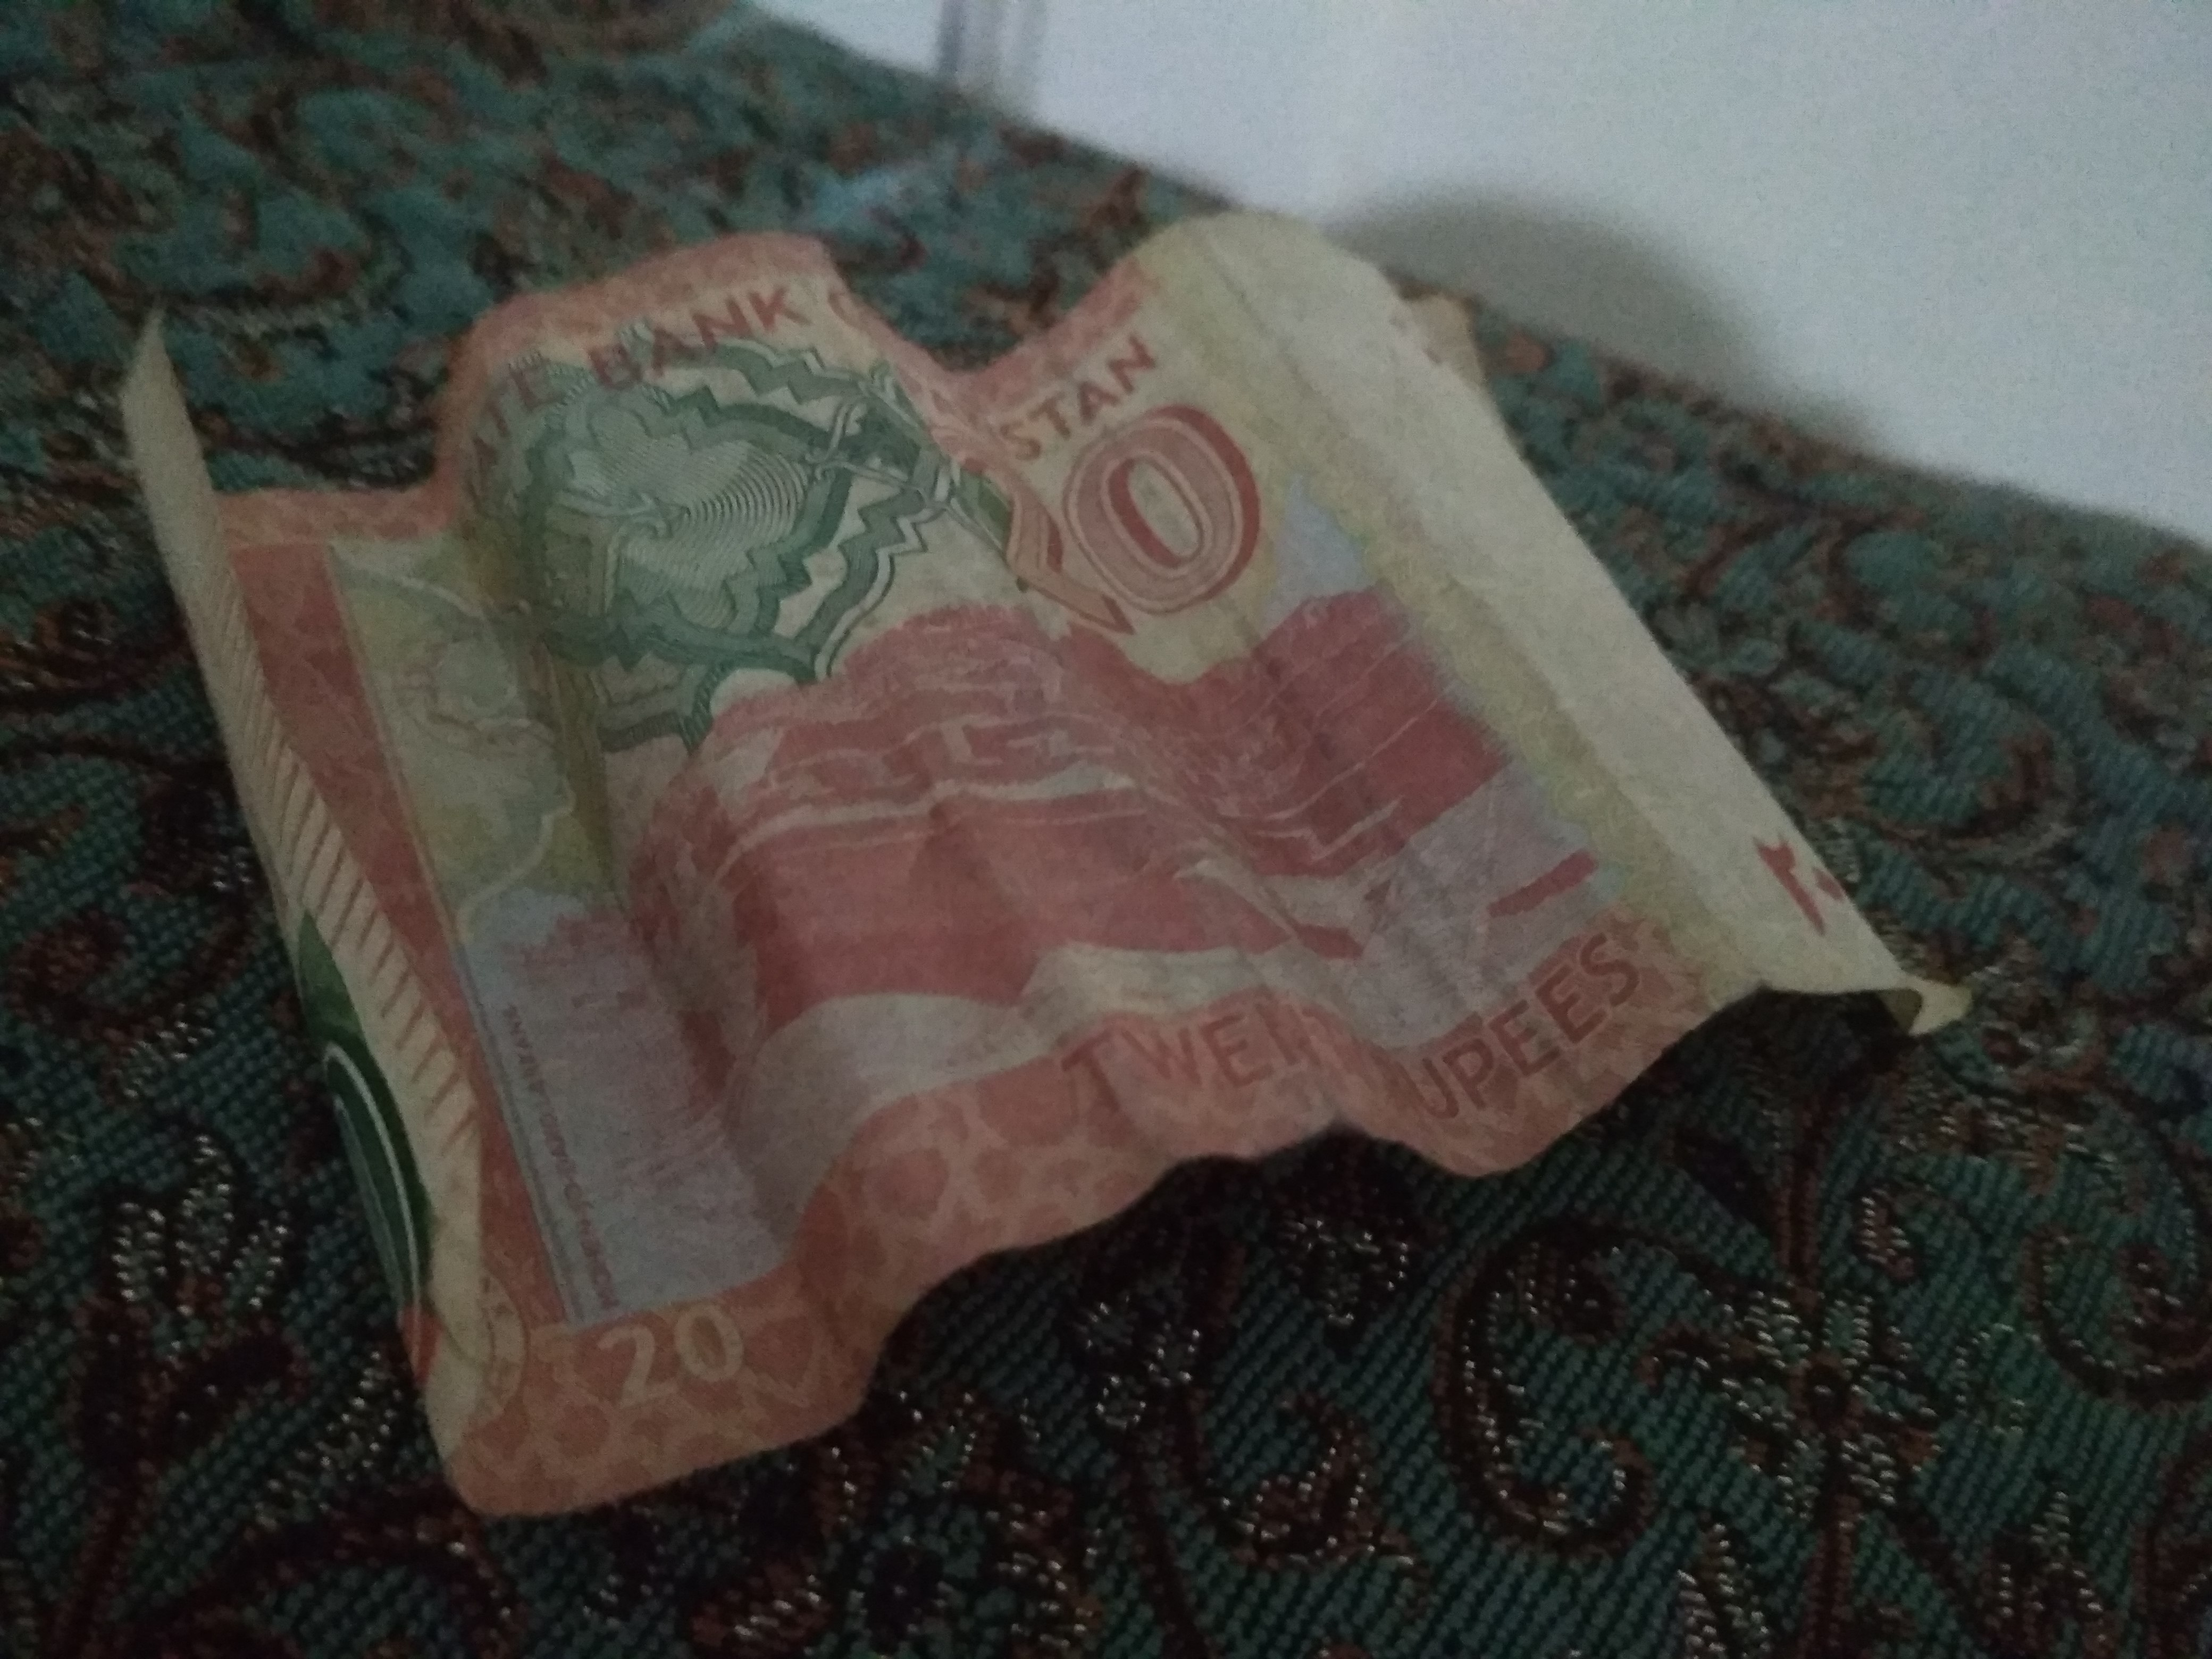20 rupee: (68, 155, 2034, 1621)
